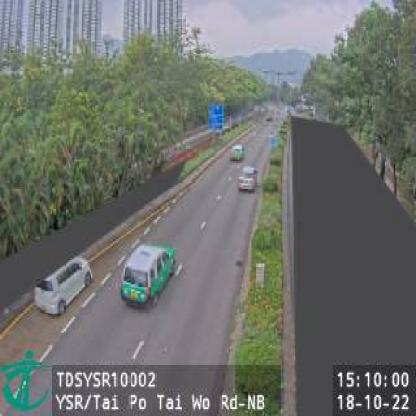Car: (120, 241, 178, 309), (33, 255, 94, 317), (237, 164, 257, 193), (228, 141, 245, 164)
